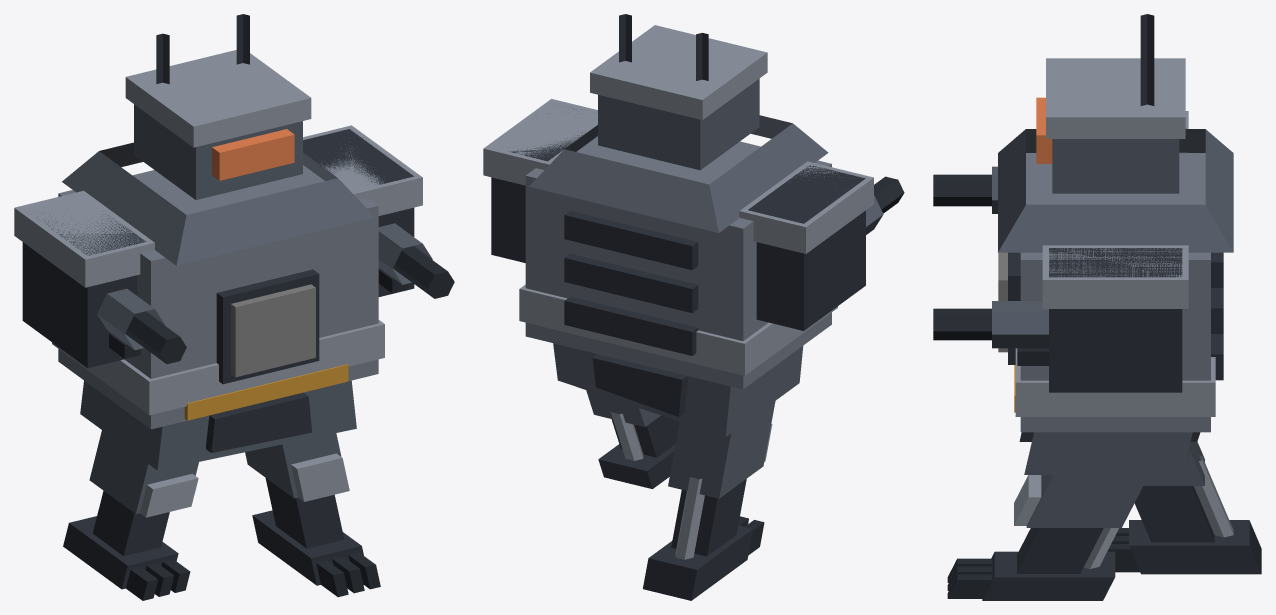
File: heavy-walk-2.obj
3 renders of one model, left to right at view 1: azimuth 30°, elevation 25°; view 2: azimuth 150°, elevation 25°; view 3: azimuth 270°, elevation 25°, orthographic. The views are drawn at different scales.
Parts seen in each view (by area): view 1: heavy-walk-2; view 2: heavy-walk-2; view 3: heavy-walk-2.
Boxes of the visible parts, x1=… form: heavy-walk-2: x1=14, y1=14, x2=454, y2=600; heavy-walk-2: x1=483, y1=14, x2=904, y2=600; heavy-walk-2: x1=933, y1=14, x2=1261, y2=600.
Bounding box in the file's own units: 2.52 × 3.85 × 2.07.
